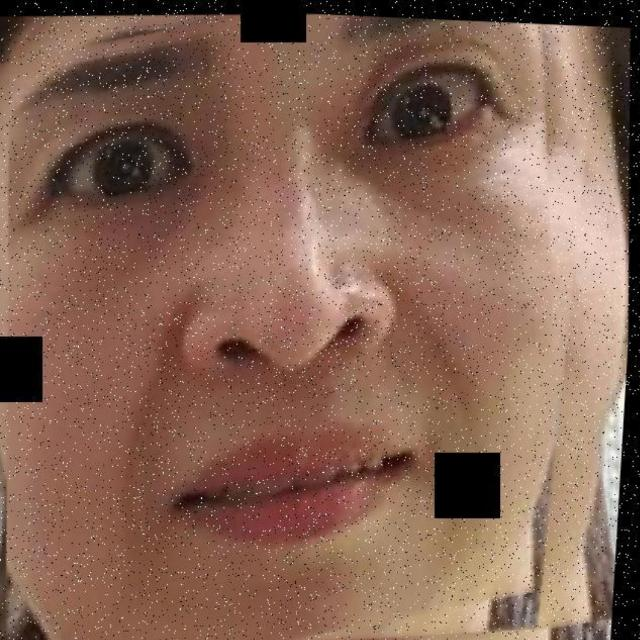Angry: (21, 19, 587, 595)
